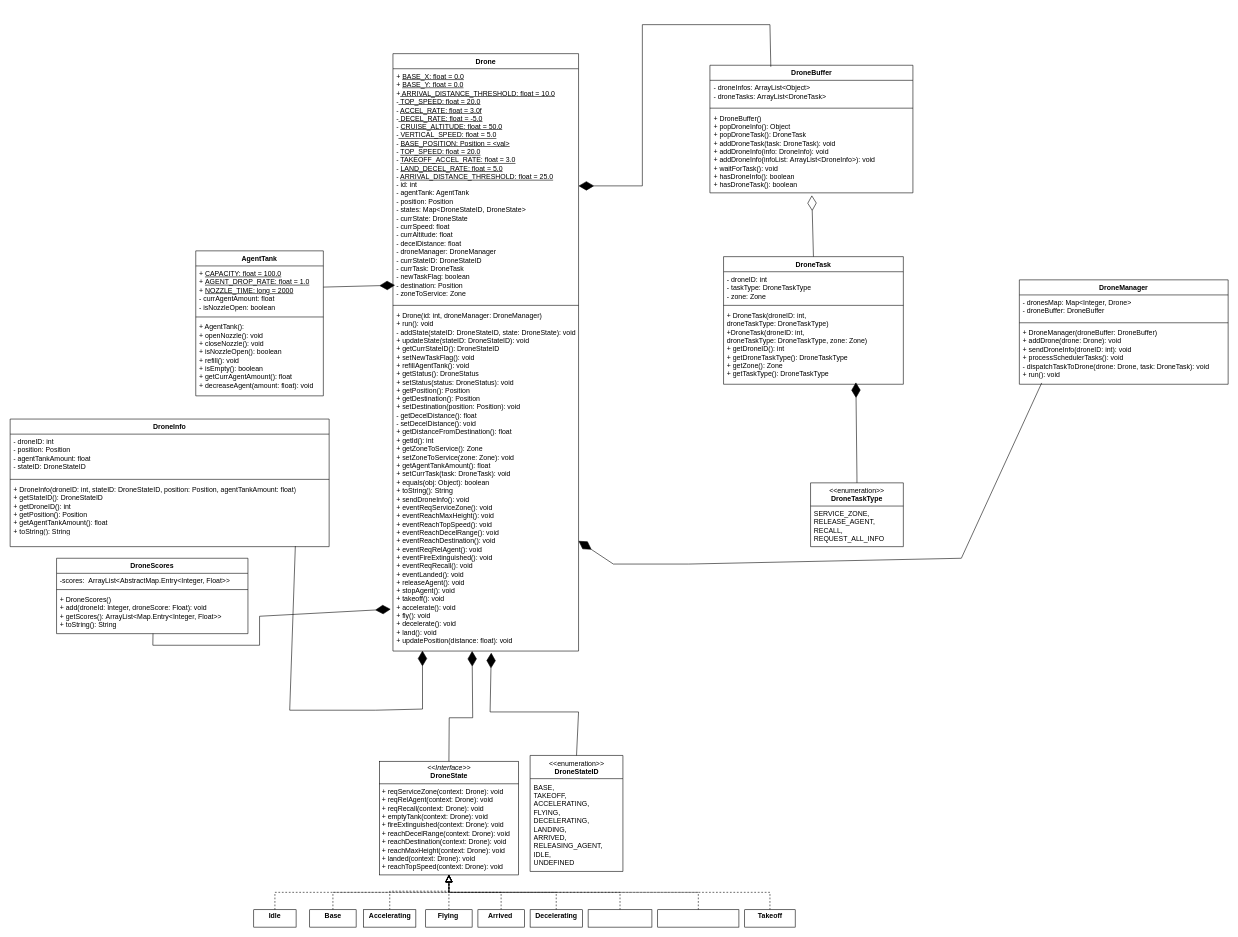
The diagram is 1238 pixels wide and 937 high, and some of its shapes have lost their labels. Here are the shapes that lost their labels. From the top down, the centre of each, then its label:
pixel 620 918: Landing
pixel 698 918: ReleasingAgent
